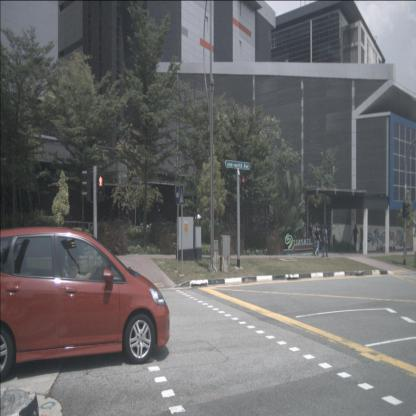human-pedestrian-adult: (321, 224, 328, 257), (314, 225, 321, 256), (313, 223, 320, 251), (352, 224, 358, 252), (308, 221, 313, 250)
vehicle-car: (0, 227, 170, 383)
